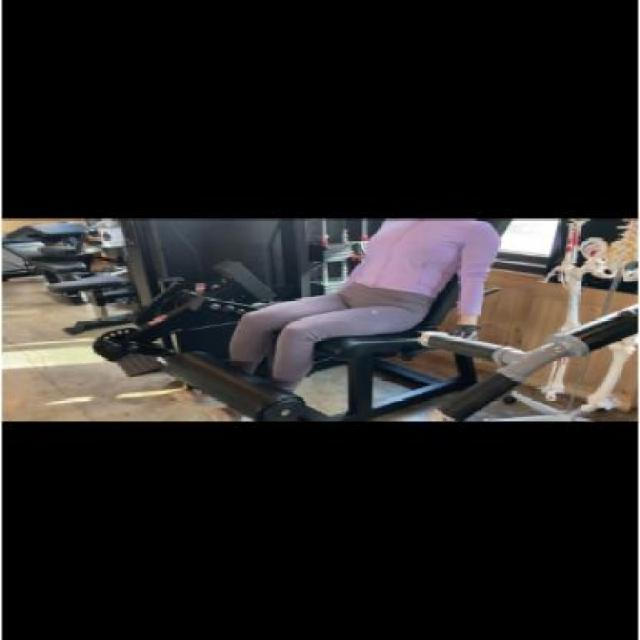leg extension: (75, 212, 632, 425)
